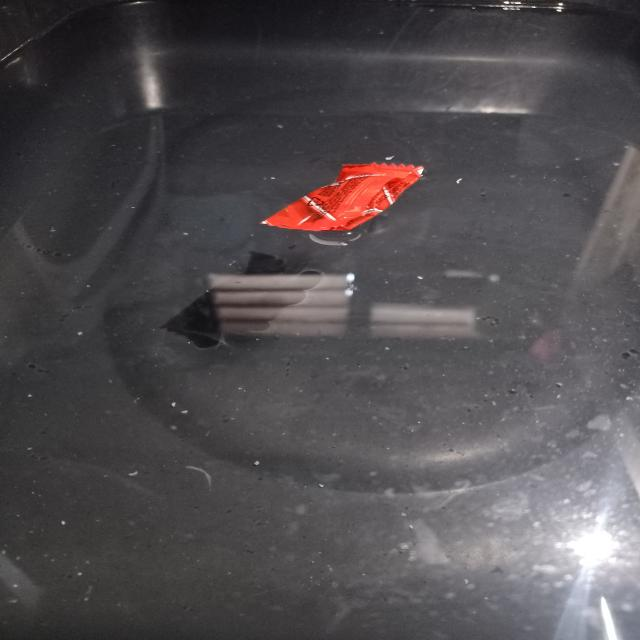Plastic Wrapper: (262, 163, 424, 231)
